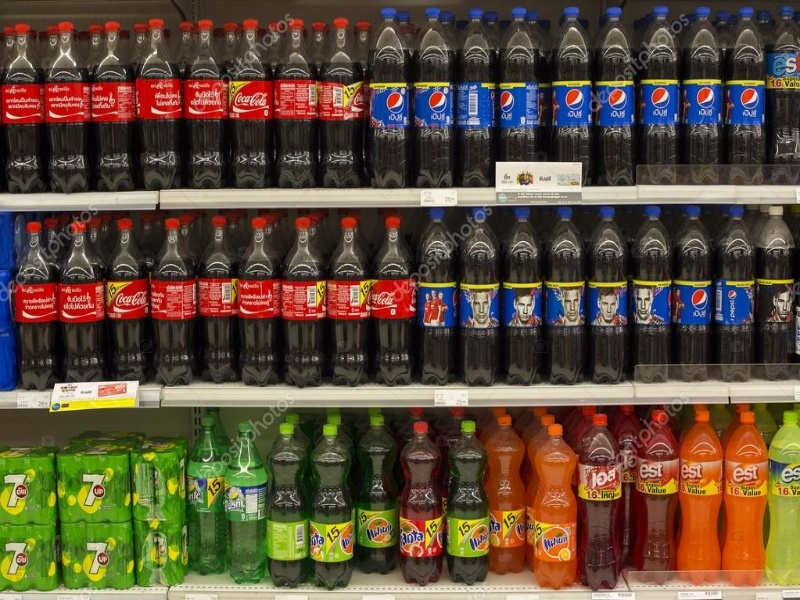lemonade: (454, 205, 504, 389), (670, 195, 717, 382), (632, 409, 681, 588), (675, 408, 723, 589), (575, 416, 624, 593), (367, 209, 416, 384), (501, 201, 546, 389), (11, 218, 60, 388), (454, 9, 500, 189), (408, 9, 453, 191), (278, 213, 325, 387), (541, 205, 585, 390), (714, 206, 760, 382), (413, 209, 458, 388), (587, 202, 632, 381), (311, 422, 359, 588), (678, 8, 722, 188), (723, 409, 768, 584), (89, 20, 134, 194), (533, 422, 579, 592), (61, 218, 106, 388), (326, 207, 368, 389), (1, 20, 45, 193), (635, 7, 678, 184), (633, 203, 675, 384), (398, 424, 445, 585), (195, 213, 238, 388), (153, 215, 197, 385), (445, 421, 489, 590), (133, 19, 177, 187), (227, 20, 270, 191), (274, 22, 319, 184), (236, 216, 278, 387), (182, 19, 224, 190), (267, 421, 309, 587), (321, 18, 363, 184), (595, 5, 633, 184), (725, 6, 763, 184), (47, 24, 87, 192), (226, 425, 268, 583), (370, 11, 407, 187), (360, 415, 399, 578), (107, 218, 145, 385), (188, 416, 225, 579), (550, 9, 589, 159), (492, 417, 527, 574), (504, 11, 538, 160)
milk: (751, 206, 800, 395)
